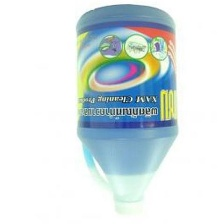cleaning_solution: (71, 1, 180, 215)
